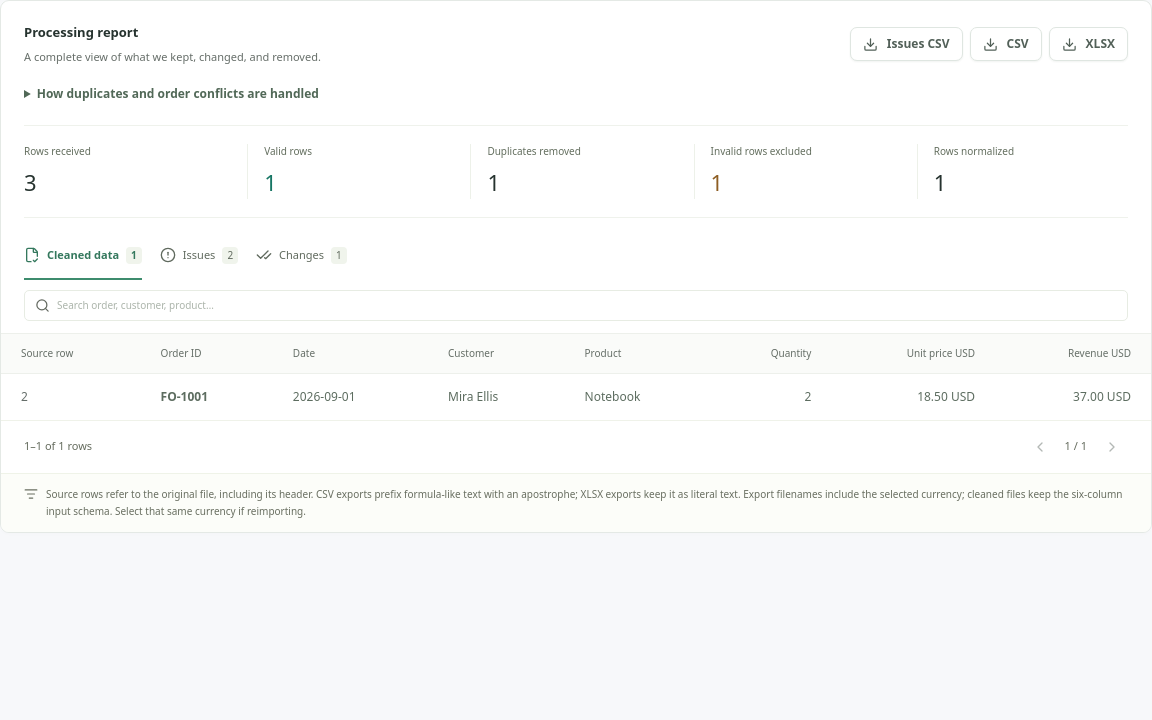
Test: displays actual cleaned records, source rows, and normalization details
The image size is (1152, 720).
Check: the text "Mira Ellis" is shown, box [428,373,564,420]
Check: the text "37.00 USD" is shown, box [995,373,1151,420]
Click the tab "Issues 2": point(199, 263) [160,247,238,280]
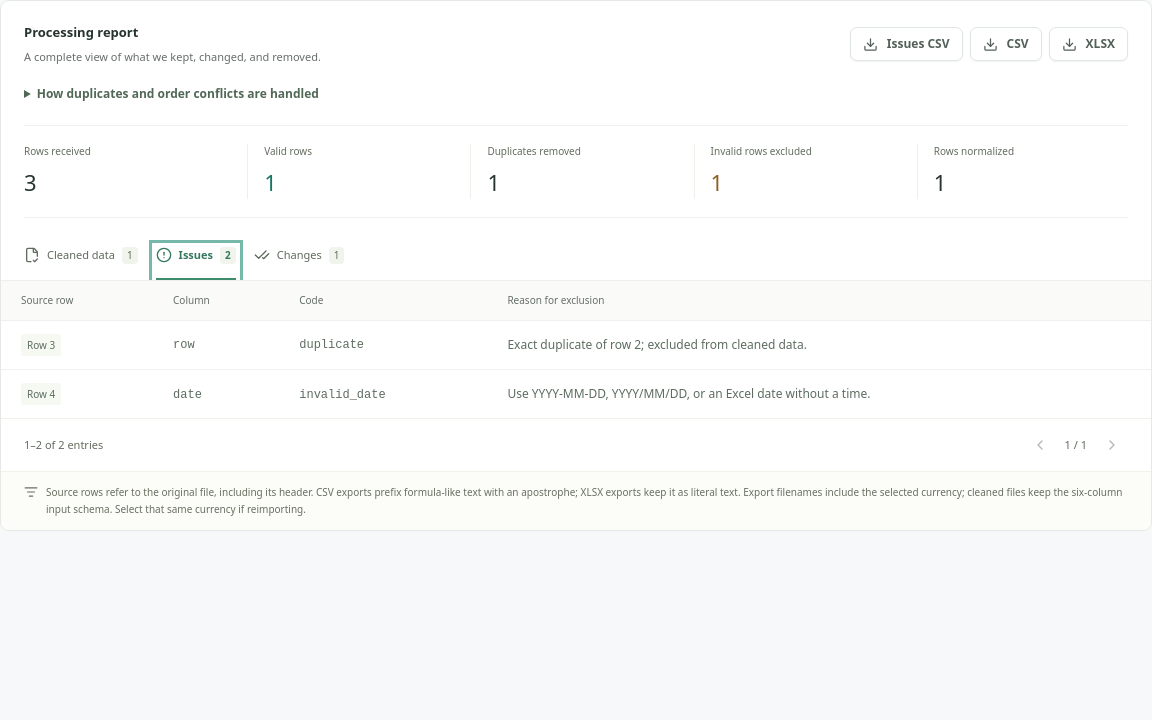
Check: the text "Row 4" is shown, box [21,383,61,405]
Check: the text "Use YYYY-MM-DD, YYYY/MM/DD, or an Excel date without a time." is shown, box [487,370,1151,418]
Check: the text "Mira Ellis" is gone
Click the tab "Changes 1": point(299, 263) [254,247,344,280]
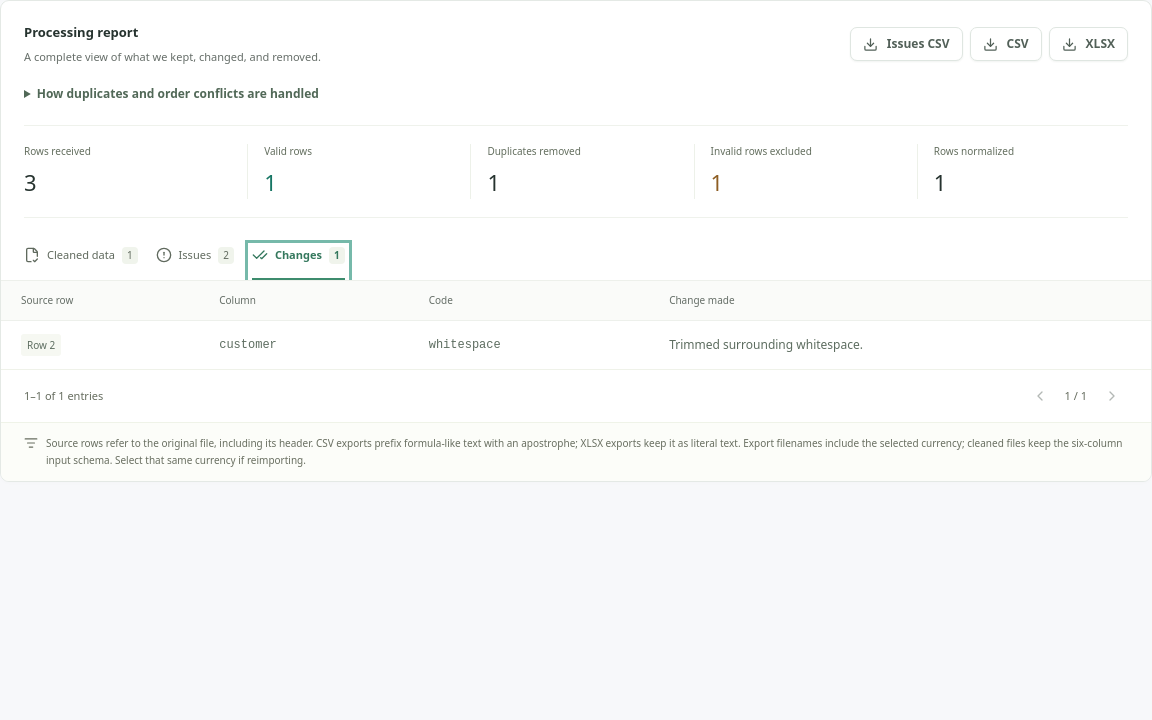
Check: the text "Trimmed surrounding whitespace." is shown, box [649,320,1151,369]
